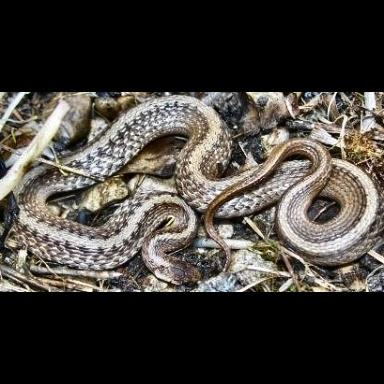snake: (18, 104, 384, 286)
